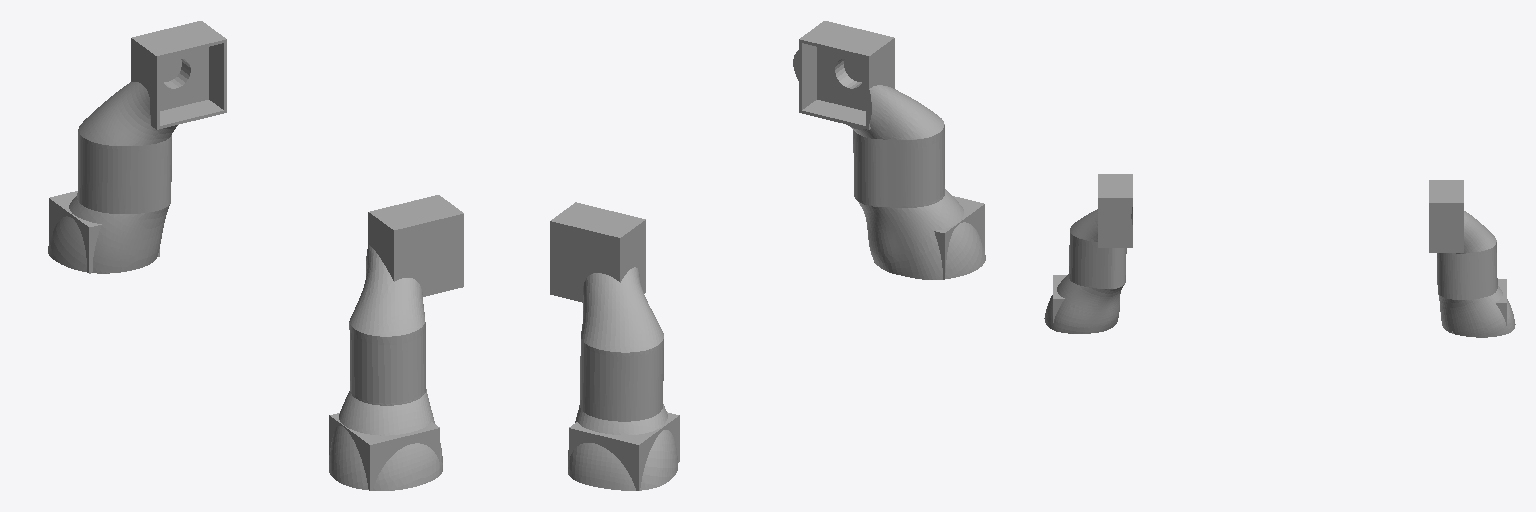
robot.urdf — FrogBot1_top-FrogBot1-z-9_bottom-FrogBot1-z-9:
<?xml version="1.0" ?>
<robot name="FrogBot1_top-FrogBot1-z-9_bottom-FrogBot1-z-9">

<material name="pla_5_percent_infill">
  <color rgba="0.700 0.700 0.700 1.000"/>
</material>

<link name="base_link">
  <inertial>
    <origin xyz="0 0 0" rpy="0 0 0"/>
    <mass value="1.4103143072721238"/>
    <inertia ixx="0.004671865419262023" iyy="0.01102984328633242" izz="0.011972094032648898" ixy="0.00015185420958179873" iyz="8.583160306759328e-05" ixz="-0.0012132770853355082"/>
  </inertial>
  <visual>
    <origin xyz="0 0 0" rpy="0 0 0"/>
    <geometry>
      <mesh filename="simple_meshes/base_link.stl" scale="0.001 0.001 0.001"/>
    </geometry>
    <material name="pla_5_percent_infill"/>
  </visual>
  <collision>
    <origin xyz="0 0 0" rpy="0 0 0"/>
    <geometry>
      <mesh filename="simple_meshes/base_link.stl" scale="0.001 0.001 0.001"/>
    </geometry>
  </collision>
</link>

<link name="body_1_0_1">
  <inertial>
    <origin xyz="-0.045735 -0.109621 -0.00462" rpy="0 0 0"/>
    <mass value="0.048668286482608916"/>
    <inertia ixx="6.887661500618036e-05" iyy="7.04577874364621e-05" izz="1.6242132023644267e-05" ixy="-4.716009065339937e-07" iyz="4.197512352394723e-06" ixz="8.826738522888514e-07"/>
  </inertial>
  <visual>
    <origin xyz="-0.045735 -0.109621 -0.00462" rpy="0 0 0"/>
    <geometry>
      <mesh filename="simple_meshes/body_1_0_1.stl" scale="0.001 0.001 0.001"/>
    </geometry>
    <material name="pla_5_percent_infill"/>
  </visual>
  <collision>
    <origin xyz="-0.045735 -0.109621 -0.00462" rpy="0 0 0"/>
    <geometry>
      <mesh filename="simple_meshes/body_1_0_1.stl" scale="0.001 0.001 0.001"/>
    </geometry>
  </collision>
</link>

<link name="body_1_1_1">
  <inertial>
    <origin xyz="0.086489 -0.109621 -0.018802" rpy="0 0 0"/>
    <mass value="0.09023407120088159"/>
    <inertia ixx="0.0001316774515884027" iyy="0.00013956713434980727" izz="4.8496490876420544e-05" ixy="6.474050119949226e-06" iyz="1.7480621280759642e-05" ixz="-2.6032231009540325e-05"/>
  </inertial>
  <visual>
    <origin xyz="0.086489 -0.109621 -0.018802" rpy="0 0 0"/>
    <geometry>
      <mesh filename="simple_meshes/body_1_1_1.stl" scale="0.001 0.001 0.001"/>
    </geometry>
    <material name="pla_5_percent_infill"/>
  </visual>
  <collision>
    <origin xyz="0.086489 -0.109621 -0.018802" rpy="0 0 0"/>
    <geometry>
      <mesh filename="simple_meshes/body_1_1_1.stl" scale="0.001 0.001 0.001"/>
    </geometry>
  </collision>
</link>

<link name="body_1_2_1">
  <inertial>
    <origin xyz="-0.040267 0.109621 -0.027764" rpy="0 0 0"/>
    <mass value="0.060337074263231386"/>
    <inertia ixx="0.00012370040882443483" iyy="0.00012167358474623308" izz="2.5170059210042608e-05" ixy="6.817579499822802e-07" iyz="-1.8037113073678937e-05" ixz="-1.8531244077202476e-07"/>
  </inertial>
  <visual>
    <origin xyz="-0.040267 0.109621 -0.027764" rpy="0 0 0"/>
    <geometry>
      <mesh filename="simple_meshes/body_1_2_1.stl" scale="0.001 0.001 0.001"/>
    </geometry>
    <material name="pla_5_percent_infill"/>
  </visual>
  <collision>
    <origin xyz="-0.040267 0.109621 -0.027764" rpy="0 0 0"/>
    <geometry>
      <mesh filename="simple_meshes/body_1_2_1.stl" scale="0.001 0.001 0.001"/>
    </geometry>
  </collision>
</link>

<link name="body_1_3_1">
  <inertial>
    <origin xyz="0.090407 0.109621 -0.022193" rpy="0 0 0"/>
    <mass value="0.08843891257572972"/>
    <inertia ixx="0.0001413551611192925" iyy="0.00015111699674743868" izz="5.070226831142225e-05" ixy="-7.8995368414127e-06" iyz="-2.157702250069266e-05" ixz="-3.1318415931436713e-05"/>
  </inertial>
  <visual>
    <origin xyz="0.090407 0.109621 -0.022193" rpy="0 0 0"/>
    <geometry>
      <mesh filename="simple_meshes/body_1_3_1.stl" scale="0.001 0.001 0.001"/>
    </geometry>
    <material name="pla_5_percent_infill"/>
  </visual>
  <collision>
    <origin xyz="0.090407 0.109621 -0.022193" rpy="0 0 0"/>
    <geometry>
      <mesh filename="simple_meshes/body_1_3_1.stl" scale="0.001 0.001 0.001"/>
    </geometry>
  </collision>
</link>

<link name="body_2_0_1">
  <inertial>
    <origin xyz="-0.049562 -0.159797 0.120064" rpy="0 0 0"/>
    <mass value="0.1238908610975304"/>
    <inertia ixx="0.000187905697823754" iyy="0.0002011997183433891" izz="0.0001437409351077077" ixy="-4.738678014313538e-06" iyz="-1.7145257468825434e-06" ixz="4.229083921211533e-05"/>
  </inertial>
  <visual>
    <origin xyz="-0.049562 -0.159797 0.120064" rpy="0 0 0"/>
    <geometry>
      <mesh filename="simple_meshes/body_2_0_1.stl" scale="0.001 0.001 0.001"/>
    </geometry>
    <material name="pla_5_percent_infill"/>
  </visual>
  <collision>
    <origin xyz="-0.049562 -0.159797 0.120064" rpy="0 0 0"/>
    <geometry>
      <mesh filename="simple_meshes/body_2_0_1.stl" scale="0.001 0.001 0.001"/>
    </geometry>
  </collision>
</link>

<link name="body_2_1_1">
  <inertial>
    <origin xyz="0.121182 -0.173952 0.120064" rpy="0 0 0"/>
    <mass value="0.1377099919851931"/>
    <inertia ixx="0.00020140669127355695" iyy="0.00021489094800557738" izz="0.00016042424234425767" ixy="-8.164014249785988e-07" iyz="2.438609023181805e-05" ixz="5.393201911764326e-05"/>
  </inertial>
  <visual>
    <origin xyz="0.121182 -0.173952 0.120064" rpy="0 0 0"/>
    <geometry>
      <mesh filename="simple_meshes/body_2_1_1.stl" scale="0.001 0.001 0.001"/>
    </geometry>
    <material name="pla_5_percent_infill"/>
  </visual>
  <collision>
    <origin xyz="0.121182 -0.173952 0.120064" rpy="0 0 0"/>
    <geometry>
      <mesh filename="simple_meshes/body_2_1_1.stl" scale="0.001 0.001 0.001"/>
    </geometry>
  </collision>
</link>

<link name="body_2_2_1">
  <inertial>
    <origin xyz="-0.04311 0.170506 0.120064" rpy="0 0 0"/>
    <mass value="0.12976234413611415"/>
    <inertia ixx="0.00019952976041925918" iyy="0.00019339136669536874" izz="0.00014883443463354663" ixy="1.3197516990387948e-06" iyz="-9.493466190841314e-06" ixz="3.08909521455473e-05"/>
  </inertial>
  <visual>
    <origin xyz="-0.04311 0.170506 0.120064" rpy="0 0 0"/>
    <geometry>
      <mesh filename="simple_meshes/body_2_2_1.stl" scale="0.001 0.001 0.001"/>
    </geometry>
    <material name="pla_5_percent_infill"/>
  </visual>
  <collision>
    <origin xyz="-0.04311 0.170506 0.120064" rpy="0 0 0"/>
    <geometry>
      <mesh filename="simple_meshes/body_2_2_1.stl" scale="0.001 0.001 0.001"/>
    </geometry>
  </collision>
</link>

<link name="body_2_3_1">
  <inertial>
    <origin xyz="0.129712 0.175384 0.120064" rpy="0 0 0"/>
    <mass value="0.1332848953881674"/>
    <inertia ixx="0.00020992661733601828" iyy="0.00020852034400216726" izz="0.0001465374956686489" ixy="7.162724412855016e-06" iyz="-3.056641905423239e-05" ixz="5.084116385044822e-05"/>
  </inertial>
  <visual>
    <origin xyz="0.129712 0.175384 0.120064" rpy="0 0 0"/>
    <geometry>
      <mesh filename="simple_meshes/body_2_3_1.stl" scale="0.001 0.001 0.001"/>
    </geometry>
    <material name="pla_5_percent_infill"/>
  </visual>
  <collision>
    <origin xyz="0.129712 0.175384 0.120064" rpy="0 0 0"/>
    <geometry>
      <mesh filename="simple_meshes/body_2_3_1.stl" scale="0.001 0.001 0.001"/>
    </geometry>
  </collision>
</link>

<joint name="joint_1_0" type="revolute">
  <origin xyz="0.045735 0.109621 0.00462" rpy="0 0 0"/>
  <parent link="base_link"/>
  <child link="body_1_0_1"/>
  <axis xyz="0.0 1.0 0.0"/>
  <limit upper="1.2" lower="-1.2" effort="3.8" velocity="5.4"/>
</joint>
<transmission name="joint_1_0_tran">
  <type>transmission_interface/SimpleTransmission</type>
  <joint name="joint_1_0">
    <hardwareInterface>PositionJointInterface</hardwareInterface>
  </joint>
  <actuator name="joint_1_0_actr">
    <hardwareInterface>PositionJointInterface</hardwareInterface>
    <mechanicalReduction>1</mechanicalReduction>
  </actuator>
</transmission>

<joint name="joint_1_1" type="revolute">
  <origin xyz="-0.086489 0.109621 0.018802" rpy="0 0 0"/>
  <parent link="base_link"/>
  <child link="body_1_1_1"/>
  <axis xyz="0.0 1.0 0.0"/>
  <limit upper="1.2" lower="-1.2" effort="3.8" velocity="5.4"/>
</joint>
<transmission name="joint_1_1_tran">
  <type>transmission_interface/SimpleTransmission</type>
  <joint name="joint_1_1">
    <hardwareInterface>PositionJointInterface</hardwareInterface>
  </joint>
  <actuator name="joint_1_1_actr">
    <hardwareInterface>PositionJointInterface</hardwareInterface>
    <mechanicalReduction>1</mechanicalReduction>
  </actuator>
</transmission>

<joint name="joint_1_2" type="revolute">
  <origin xyz="0.040267 -0.109621 0.027764" rpy="0 0 0"/>
  <parent link="base_link"/>
  <child link="body_1_2_1"/>
  <axis xyz="0.0 1.0 0.0"/>
  <limit upper="1.2" lower="-1.2" effort="3.8" velocity="5.4"/>
</joint>
<transmission name="joint_1_2_tran">
  <type>transmission_interface/SimpleTransmission</type>
  <joint name="joint_1_2">
    <hardwareInterface>PositionJointInterface</hardwareInterface>
  </joint>
  <actuator name="joint_1_2_actr">
    <hardwareInterface>PositionJointInterface</hardwareInterface>
    <mechanicalReduction>1</mechanicalReduction>
  </actuator>
</transmission>

<joint name="joint_1_3" type="revolute">
  <origin xyz="-0.090407 -0.109621 0.022193" rpy="0 0 0"/>
  <parent link="base_link"/>
  <child link="body_1_3_1"/>
  <axis xyz="0.0 1.0 0.0"/>
  <limit upper="1.2" lower="-1.2" effort="3.8" velocity="5.4"/>
</joint>
<transmission name="joint_1_3_tran">
  <type>transmission_interface/SimpleTransmission</type>
  <joint name="joint_1_3">
    <hardwareInterface>PositionJointInterface</hardwareInterface>
  </joint>
  <actuator name="joint_1_3_actr">
    <hardwareInterface>PositionJointInterface</hardwareInterface>
    <mechanicalReduction>1</mechanicalReduction>
  </actuator>
</transmission>

<joint name="joint_2_0" type="revolute">
  <origin xyz="0.003827 0.050176 -0.124684" rpy="0 0 0"/>
  <parent link="body_1_0_1"/>
  <child link="body_2_0_1"/>
  <axis xyz="0.0 0.0 1.0"/>
  <limit upper="1.2" lower="-1.2" effort="3.8" velocity="5.4"/>
</joint>
<transmission name="joint_2_0_tran">
  <type>transmission_interface/SimpleTransmission</type>
  <joint name="joint_2_0">
    <hardwareInterface>PositionJointInterface</hardwareInterface>
  </joint>
  <actuator name="joint_2_0_actr">
    <hardwareInterface>PositionJointInterface</hardwareInterface>
    <mechanicalReduction>1</mechanicalReduction>
  </actuator>
</transmission>

<joint name="joint_2_1" type="revolute">
  <origin xyz="-0.034693 0.064331 -0.138866" rpy="0 0 0"/>
  <parent link="body_1_1_1"/>
  <child link="body_2_1_1"/>
  <axis xyz="0.0 0.0 1.0"/>
  <limit upper="1.2" lower="-1.2" effort="3.8" velocity="5.4"/>
</joint>
<transmission name="joint_2_1_tran">
  <type>transmission_interface/SimpleTransmission</type>
  <joint name="joint_2_1">
    <hardwareInterface>PositionJointInterface</hardwareInterface>
  </joint>
  <actuator name="joint_2_1_actr">
    <hardwareInterface>PositionJointInterface</hardwareInterface>
    <mechanicalReduction>1</mechanicalReduction>
  </actuator>
</transmission>

<joint name="joint_2_2" type="revolute">
  <origin xyz="0.002843 -0.060885 -0.147828" rpy="0 0 0"/>
  <parent link="body_1_2_1"/>
  <child link="body_2_2_1"/>
  <axis xyz="0.0 0.0 1.0"/>
  <limit upper="1.2" lower="-1.2" effort="3.8" velocity="5.4"/>
</joint>
<transmission name="joint_2_2_tran">
  <type>transmission_interface/SimpleTransmission</type>
  <joint name="joint_2_2">
    <hardwareInterface>PositionJointInterface</hardwareInterface>
  </joint>
  <actuator name="joint_2_2_actr">
    <hardwareInterface>PositionJointInterface</hardwareInterface>
    <mechanicalReduction>1</mechanicalReduction>
  </actuator>
</transmission>

<joint name="joint_2_3" type="revolute">
  <origin xyz="-0.039305 -0.065763 -0.142257" rpy="0 0 0"/>
  <parent link="body_1_3_1"/>
  <child link="body_2_3_1"/>
  <axis xyz="0.0 0.0 1.0"/>
  <limit upper="1.2" lower="-1.2" effort="3.8" velocity="5.4"/>
</joint>
<transmission name="joint_2_3_tran">
  <type>transmission_interface/SimpleTransmission</type>
  <joint name="joint_2_3">
    <hardwareInterface>PositionJointInterface</hardwareInterface>
  </joint>
  <actuator name="joint_2_3_actr">
    <hardwareInterface>PositionJointInterface</hardwareInterface>
    <mechanicalReduction>1</mechanicalReduction>
  </actuator>
</transmission>

</robot>

--- What the picture shows (computed from the rendered views, not written in the file) ---
Views: 3 orthographic renders of the robot side by side, from view 1: azimuth 30°, elevation 25°; view 2: azimuth 150°, elevation 25°; view 3: azimuth 270°, elevation 25°.
Robot: FrogBot1_top-FrogBot1-z-9_bottom-FrogBot1-z-9 — 9 links, 8 joints (8 revolute); root link base_link; default pose: all joints at 0.
Links seen in each view (by area): view 1: body_1_3_1, body_1_1_1; view 2: body_1_3_1, body_1_1_1; view 3: body_1_1_1, body_1_3_1.
Link boxes in pixels (x1,y1,x2,y2): body_1_3_1: [329, 195, 463, 490]; body_1_1_1: [48, 21, 226, 273]; body_1_3_1: [793, 21, 985, 279]; body_1_1_1: [550, 202, 679, 490]; body_1_1_1: [1429, 180, 1515, 337]; body_1_3_1: [1044, 174, 1132, 333].
Bounding box of the posed robot: 0.1015 × 0.4131 × 0.1466 m (x, y, z).
Meshes: 9 distinct files referenced, 2 mesh visuals loaded (2 binary STL); not drawn: 7 (reference not matched to a file when rendering).